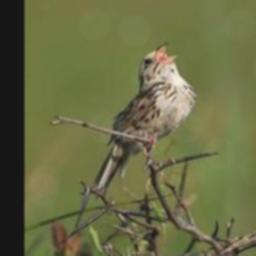Sparrow: (88, 41, 201, 205)
